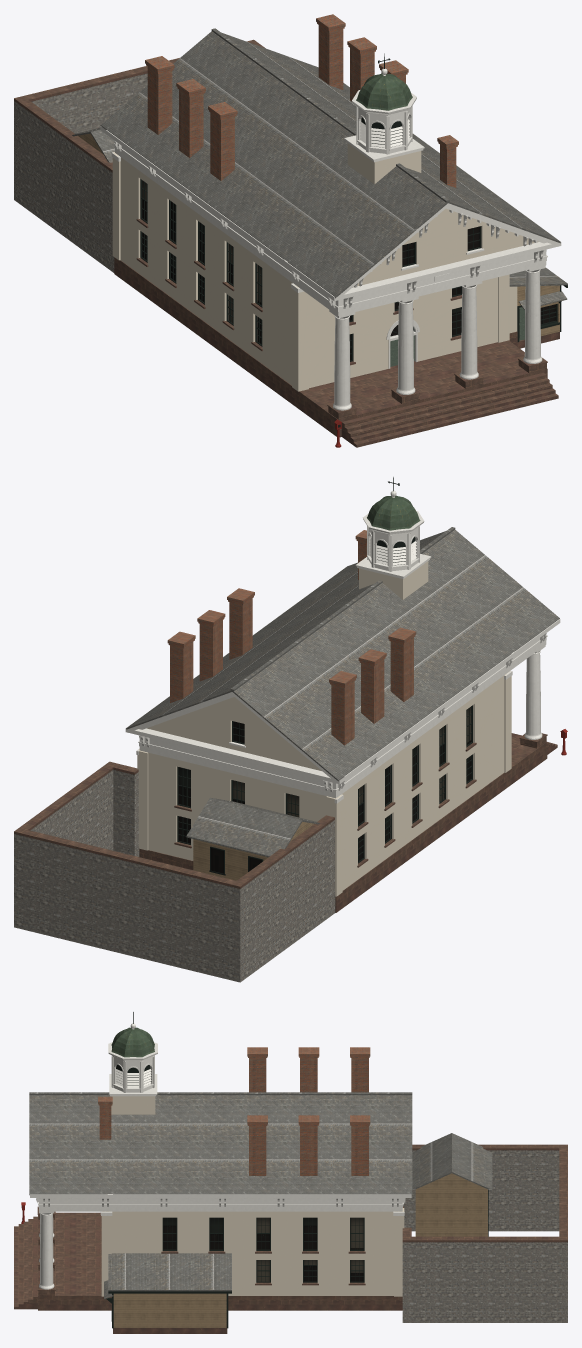
The model's file is courthouse.glb.
3 renders of one model, top to bottom at view 1: azimuth 30°, elevation 25°; view 2: azimuth 150°, elevation 25°; view 3: azimuth 270°, elevation 25°, orthographic. The views are drawn at different scales.
Visible parts, largest first — view 1: Courthouse; view 2: Courthouse; view 3: Courthouse.
Part boxes in pixels (x1,y1,x2,y2): Courthouse: (14, 14, 567, 447); Courthouse: (14, 477, 567, 982); Courthouse: (14, 1012, 567, 1333).
Size of the model in its own units: 18.31 by 19.45 by 37.85.
13 materials, 10 textured.
